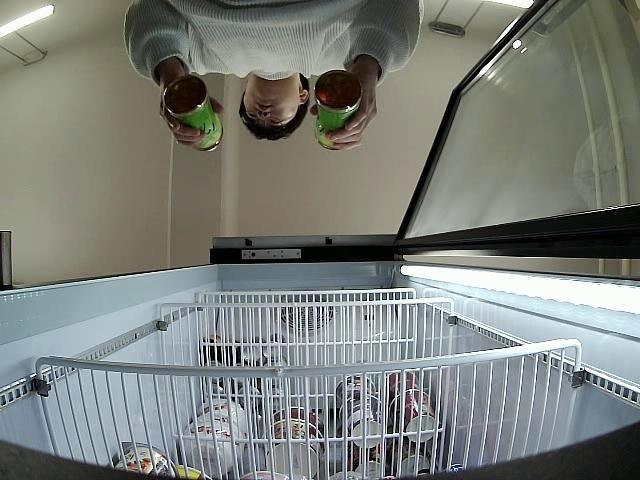19_17cha: (163, 74, 222, 152), (314, 70, 362, 150)
